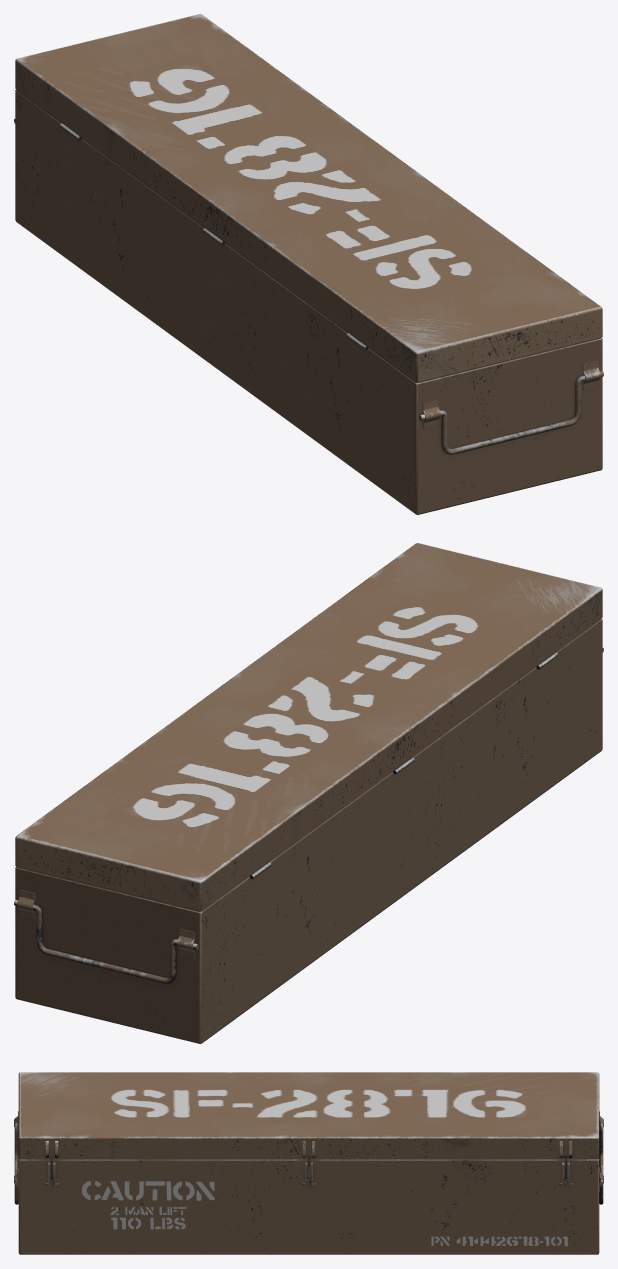
The model's file is military_box.obj.
The picture shows the model from 3 angles, top to bottom: view 1: azimuth 30°, elevation 25°; view 2: azimuth 150°, elevation 25°; view 3: azimuth 270°, elevation 25°; orthographic projection. The views are drawn at different scales.
Parts seen in each view (by area): view 1: MilitaryBox_Mesh; view 2: MilitaryBox_Mesh; view 3: MilitaryBox_Mesh.
Boxes of the visible parts, <box> form: MilitaryBox_Mesh: <box>14,14,603,514</box>; MilitaryBox_Mesh: <box>14,543,603,1043</box>; MilitaryBox_Mesh: <box>14,1072,603,1254</box>.
Bounding box in the file's own units: 1.26 × 1 × 4.54.
